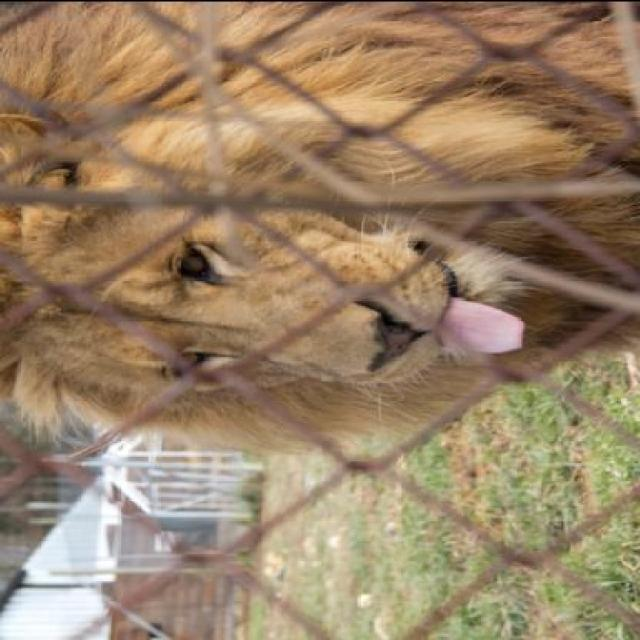Lion: (4, 2, 638, 466)
